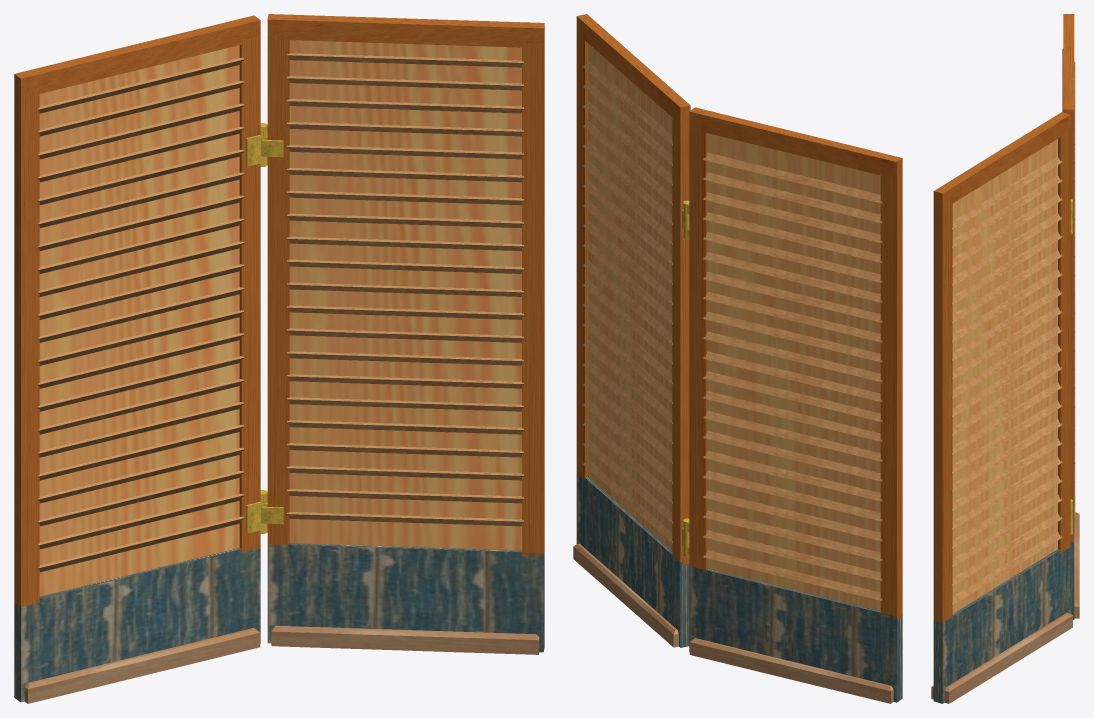
File: Other_Folding_screen__0043.glb
3 views of the same model, side by side, from view 1: azimuth 30°, elevation 25°; view 2: azimuth 150°, elevation 25°; view 3: azimuth 270°, elevation 25° (orthographic). The views are drawn at different scales.
Parts seen in each view (by area): view 1: panel_1::louver_field, panel_0::louver_field, panel_1::bottom_rail, panel_0::bottom_rail, panel_0::stile_0, panel_1::stile_1, panel_1::stile_0, panel_0::stile_1, panel_1::top_rail, panel_0::top_rail, panel_1::base_foot, panel_0::base_foot (+42 smaller); view 2: panel_0::louver_field, panel_1::louver_field, panel_0::bottom_rail, panel_0::stile_0, panel_1::bottom_rail, panel_0::stile_1, panel_1::stile_0, panel_0::top_rail, panel_1::stile_1, panel_0::base_foot, panel_1::top_rail, panel_1::base_foot (+42 smaller); view 3: panel_1::louver_field, panel_1::bottom_rail, panel_1::stile_1, panel_1::stile_0, panel_1::top_rail, panel_1::base_foot, panel_0::stile_1, panel_0::top_rail, panel_1::slat_3, panel_1::slat_6, panel_1::slat_20, panel_1::slat_8 (+20 smaller).
Boxes of the visible parts, left/top/right/bottom form: panel_1::louver_field: left=289, top=40, right=521, bottom=550; panel_0::louver_field: left=39, top=45, right=239, bottom=596; panel_1::bottom_rail: left=267, top=543, right=544, bottom=652; panel_0::bottom_rail: left=14, top=545, right=260, bottom=702; panel_0::stile_0: left=14, top=90, right=39, bottom=606; panel_1::stile_1: left=522, top=40, right=544, bottom=556; panel_1::stile_0: left=267, top=35, right=289, bottom=548; panel_0::stile_1: left=239, top=36, right=260, bottom=552; panel_1::top_rail: left=267, top=14, right=544, bottom=47; panel_0::top_rail: left=14, top=15, right=260, bottom=97; panel_1::base_foot: left=271, top=625, right=539, bottom=654; panel_0::base_foot: left=24, top=628, right=260, bottom=703; panel_0::louver_field: left=707, top=133, right=880, bottom=610; panel_1::louver_field: left=588, top=43, right=672, bottom=550; panel_0::bottom_rail: left=689, top=566, right=902, bottom=702; panel_0::stile_0: left=880, top=172, right=902, bottom=619; panel_1::bottom_rail: left=576, top=471, right=689, bottom=647; panel_0::stile_1: left=689, top=126, right=707, bottom=569; panel_1::stile_0: left=672, top=114, right=689, bottom=564; panel_0::top_rail: left=689, top=107, right=902, bottom=178; panel_1::stile_1: left=576, top=30, right=587, bottom=480; panel_0::base_foot: left=689, top=638, right=893, bottom=703; panel_1::top_rail: left=576, top=14, right=690, bottom=121; panel_1::base_foot: left=573, top=543, right=678, bottom=647; panel_1::louver_field: left=952, top=139, right=1057, bottom=613; panel_1::bottom_rail: left=933, top=547, right=1070, bottom=703; panel_1::stile_1: left=933, top=200, right=952, bottom=622; panel_1::stile_0: left=1058, top=128, right=1070, bottom=552; panel_1::top_rail: left=933, top=112, right=1070, bottom=208; panel_1::base_foot: left=931, top=612, right=1072, bottom=703; panel_0::stile_1: left=1070, top=122, right=1074, bottom=541; panel_0::top_rail: left=1063, top=14, right=1074, bottom=122; panel_1::slat_3: left=951, top=475, right=1062, bottom=549; panel_1::slat_6: left=951, top=419, right=1062, bottom=492; panel_1::slat_20: left=951, top=156, right=1062, bottom=230; panel_1::slat_8: left=951, top=381, right=1062, bottom=455.
Size of the model in its own units: 1.19 by 1.57 by 0.4136.
6 materials, 6 textured.
